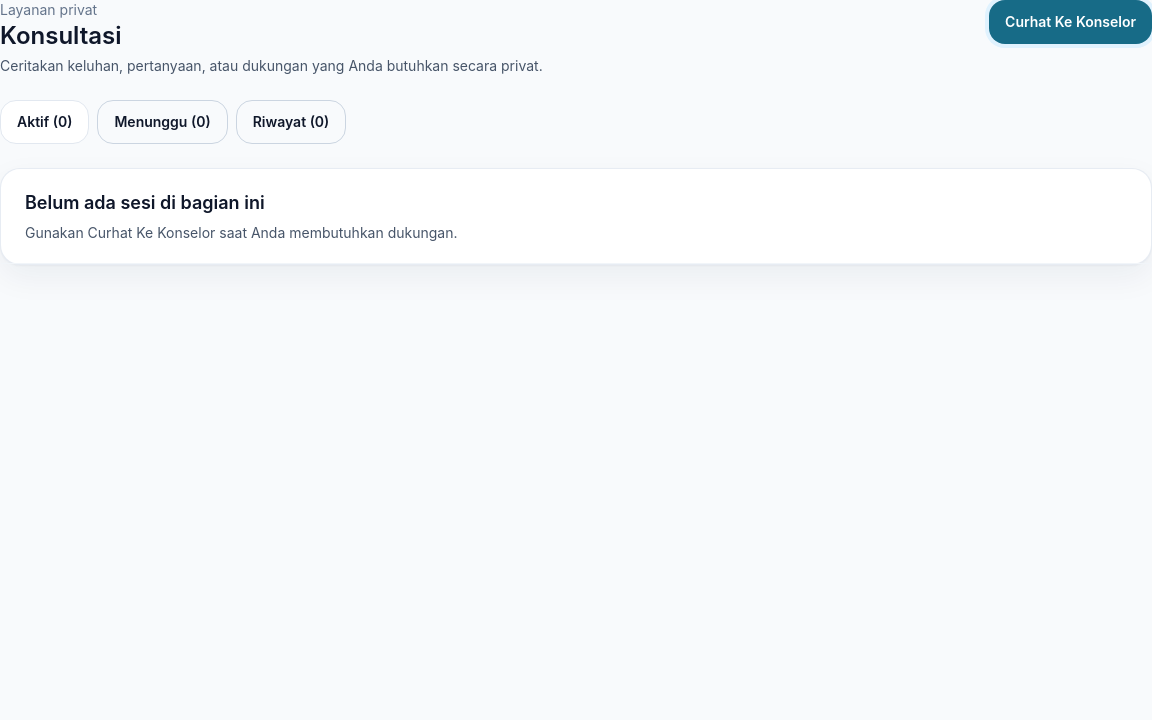
it: recommendation step presents recommended, alternative, and fastest choices
The image size is (1152, 720).
Click the button "Curhat Ke Konselor" at (1071, 22), box 989,0 -> 1151,44
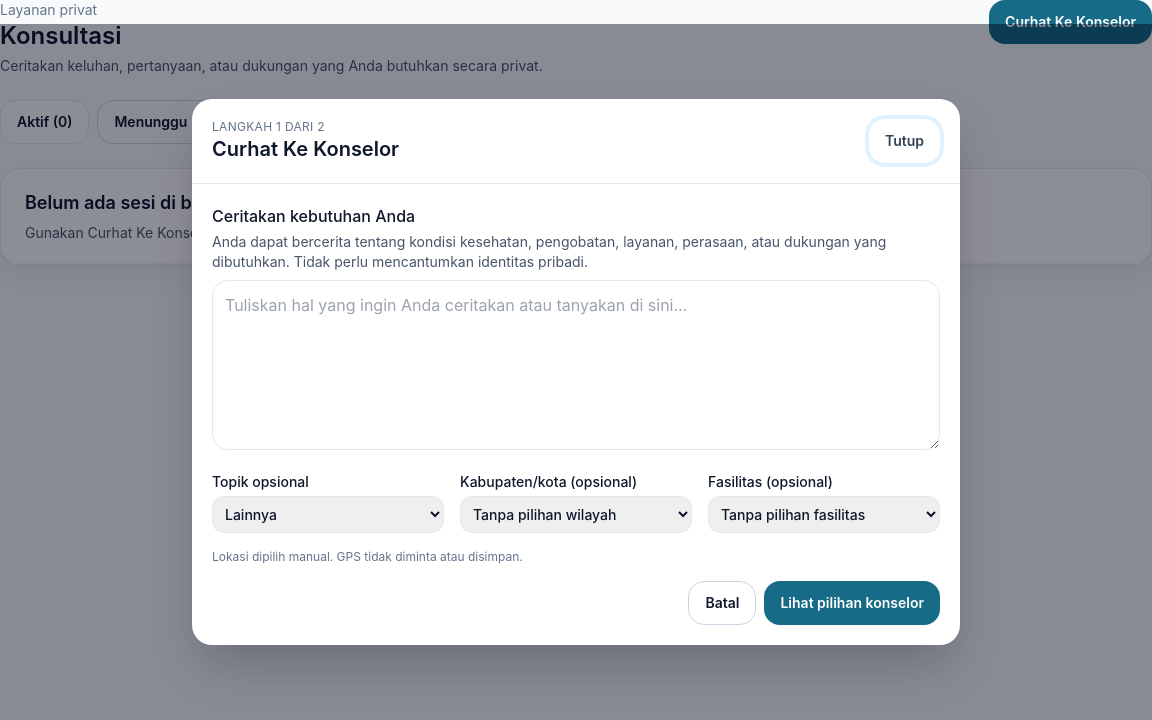
Replace the text in the text box labelled "Ceritakan kebutuhan Anda" with "Saya membutuhkan dukungan emosional tanpa identitas pribadi." at (576, 365), box 212,280 -> 940,450
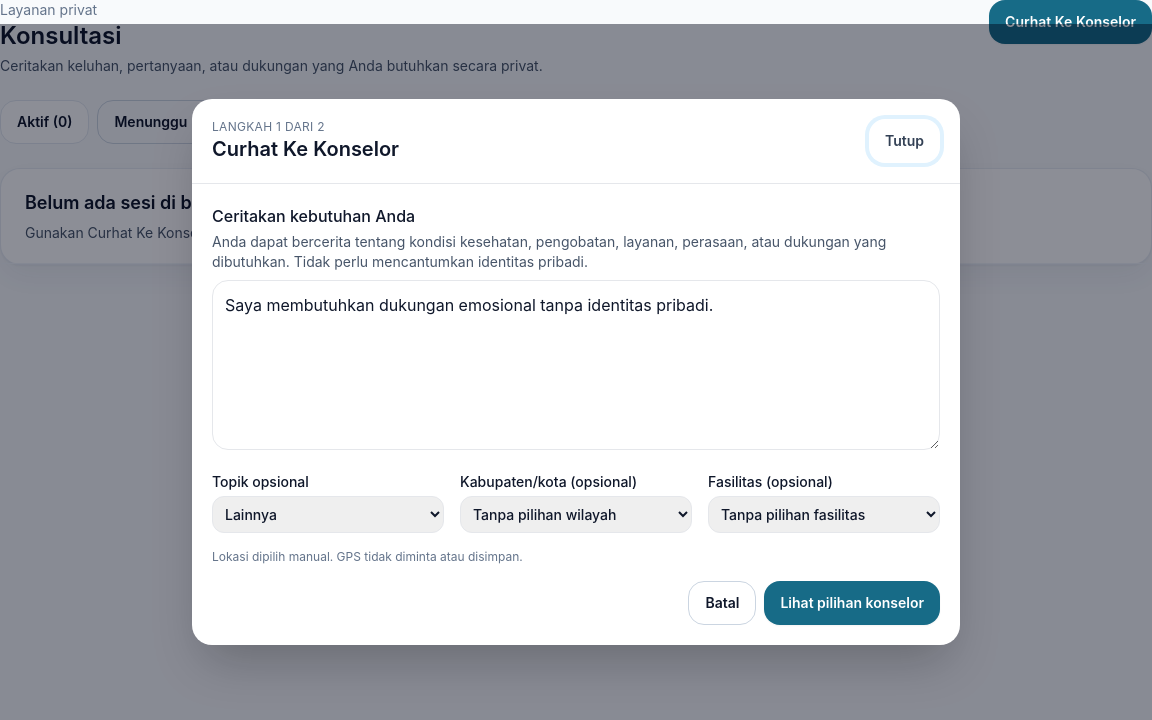
Select "Dukungan emosional" in the dropdown labelled "Topik opsional" at (328, 514), box 212,496 -> 444,533
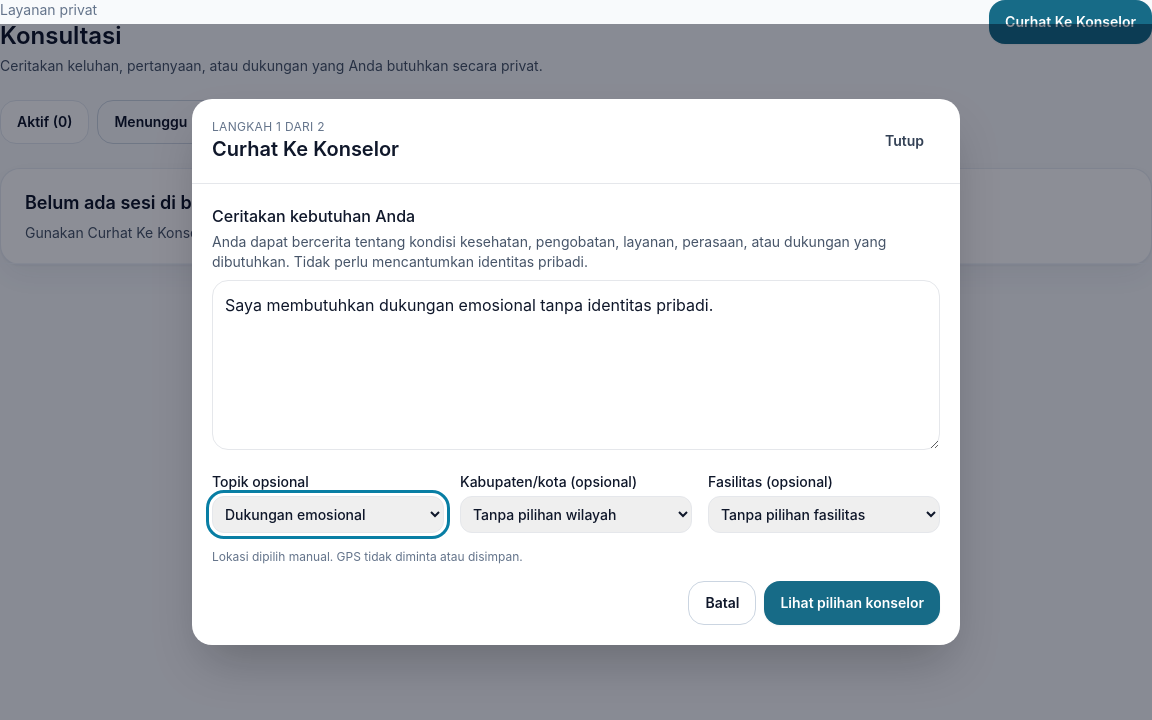
Click the button "Lihat pilihan konselor" at (852, 603), box 764,581 -> 940,625
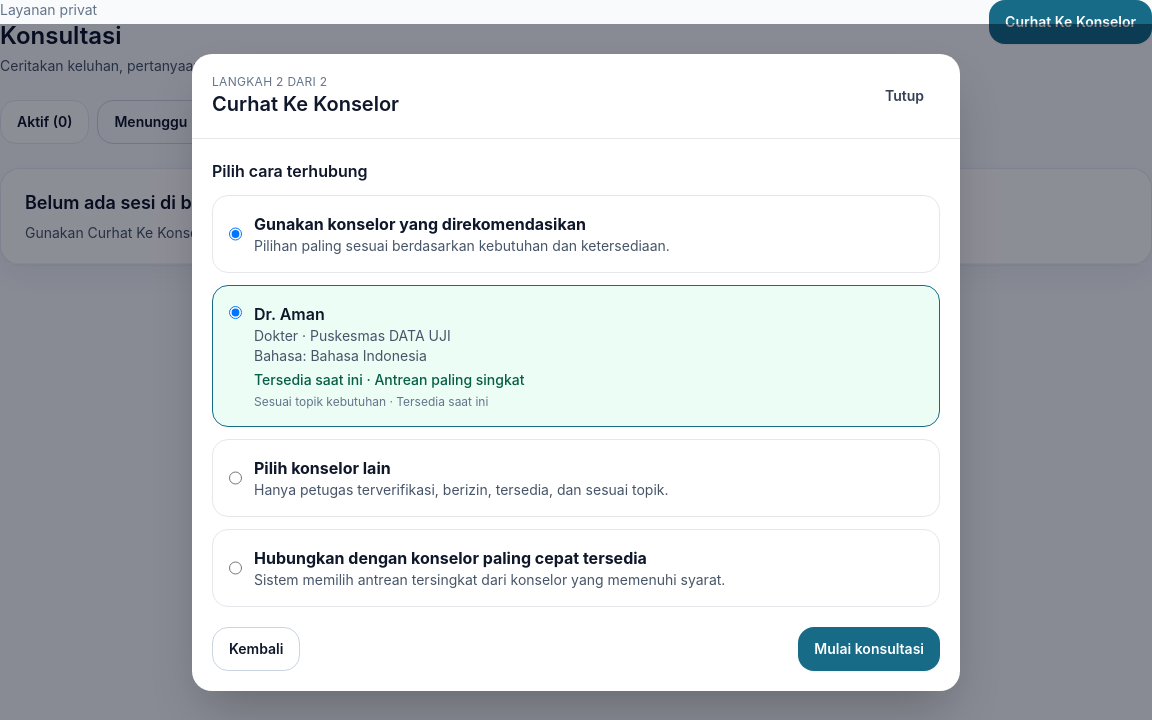
Result: the text "Dr. Aman" is shown at 254,304 -> 325,324
Result: the text "Gunakan konselor yang direkomendasikan" is shown at 254,214 -> 586,234
Result: the text "Pilih konselor lain" is shown at 254,458 -> 391,478
